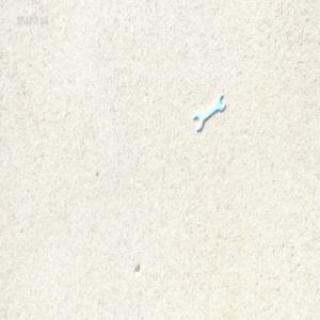Wrenchtrack_idkeyframe: (193, 93, 224, 130)
